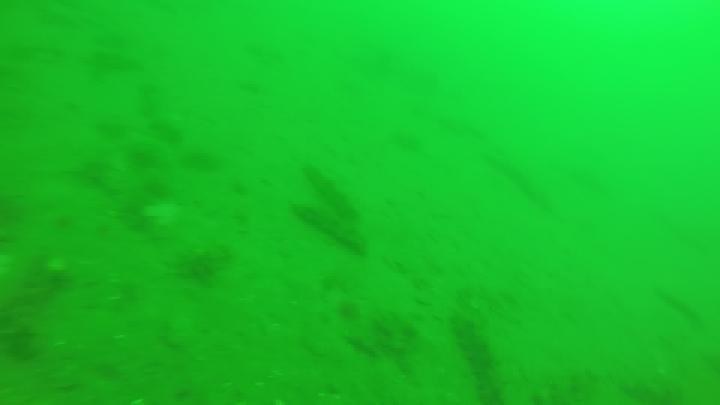holothurian: (458, 314, 510, 405), (289, 201, 358, 251), (299, 165, 360, 217)
